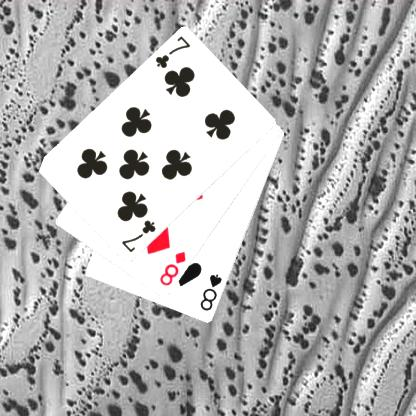7C: (118, 217, 158, 254), (152, 33, 192, 70)
8D: (157, 249, 188, 288)
8S: (197, 271, 224, 313)
